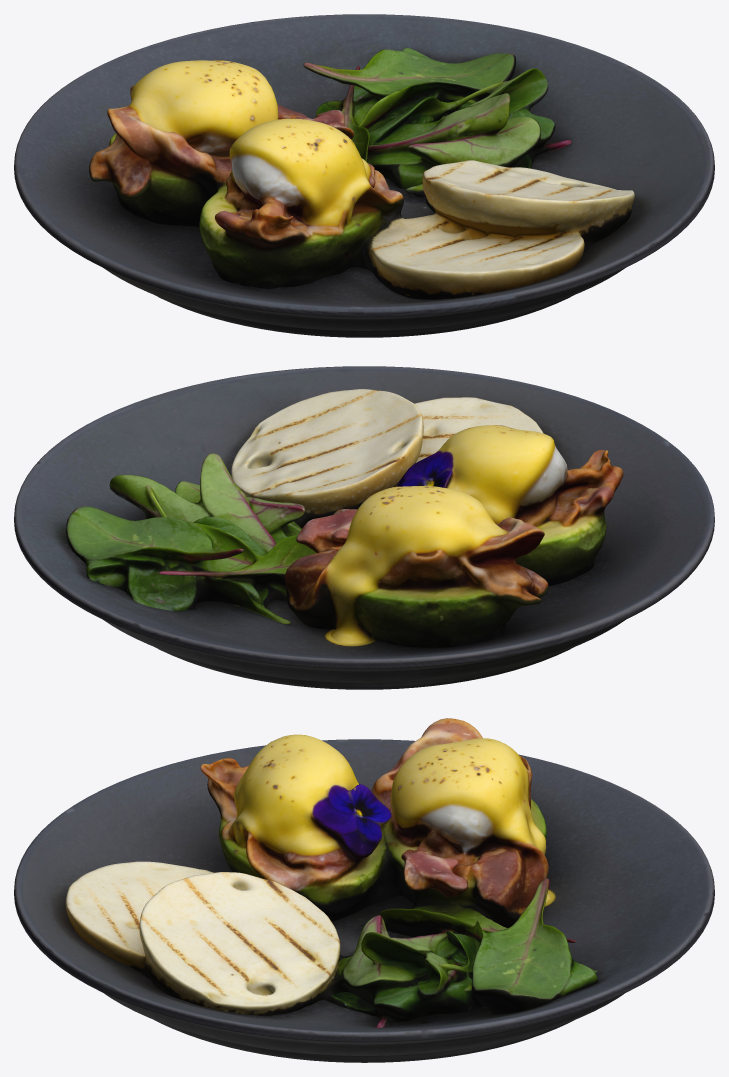
The model's file is Benny Boy.FBX.
The picture shows the model from 3 angles, top to bottom: view 1: azimuth 30°, elevation 25°; view 2: azimuth 150°, elevation 25°; view 3: azimuth 270°, elevation 25°; orthographic projection.
Visible parts, largest first — view 1: Dish24_The Benny Boy; view 2: Dish24_The Benny Boy; view 3: Dish24_The Benny Boy.
Boxes of the visible parts, x1,y1,x2,y2 form: Dish24_The Benny Boy: (14,14,714,337); Dish24_The Benny Boy: (14,366,714,689); Dish24_The Benny Boy: (14,718,714,1062).
Size of the model in its own units: 25.65 by 5.95 by 25.65.
Materials: 1 (1 with a texture image).
